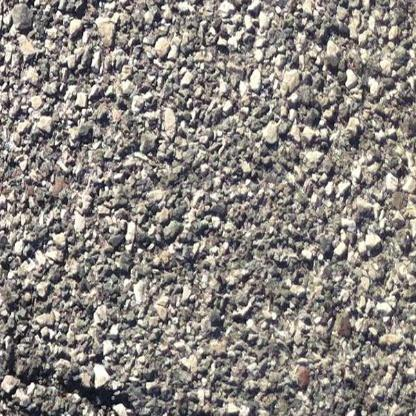Cracks: (0, 346, 248, 416)
